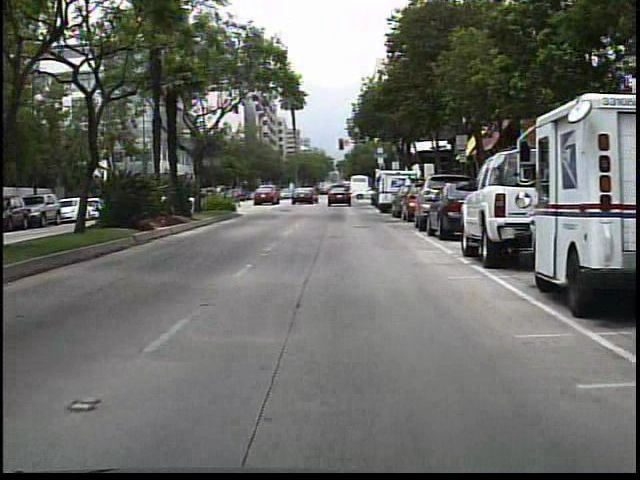person: (323, 181, 339, 205), (311, 184, 324, 205)
